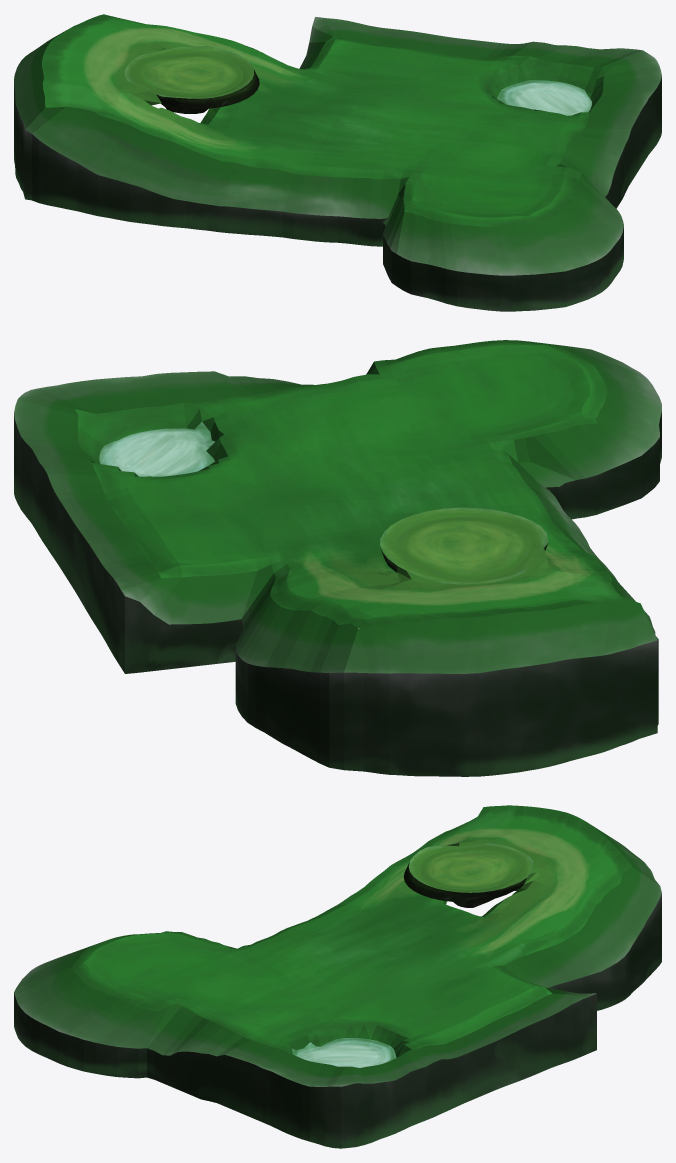
Rendered from World.fbx.
3 views of the same model, one above another, from view 1: azimuth 30°, elevation 25°; view 2: azimuth 150°, elevation 25°; view 3: azimuth 270°, elevation 25° (orthographic). The views are drawn at different scales.
Parts seen in each view (by area): view 1: World; view 2: World; view 3: World.
Boxes of the visible parts, <box> form: World: <box>14,14,661,311</box>; World: <box>14,340,661,776</box>; World: <box>14,805,661,1148</box>.
Bounding box in the file's own units: 49859 × 9127 × 52197.
